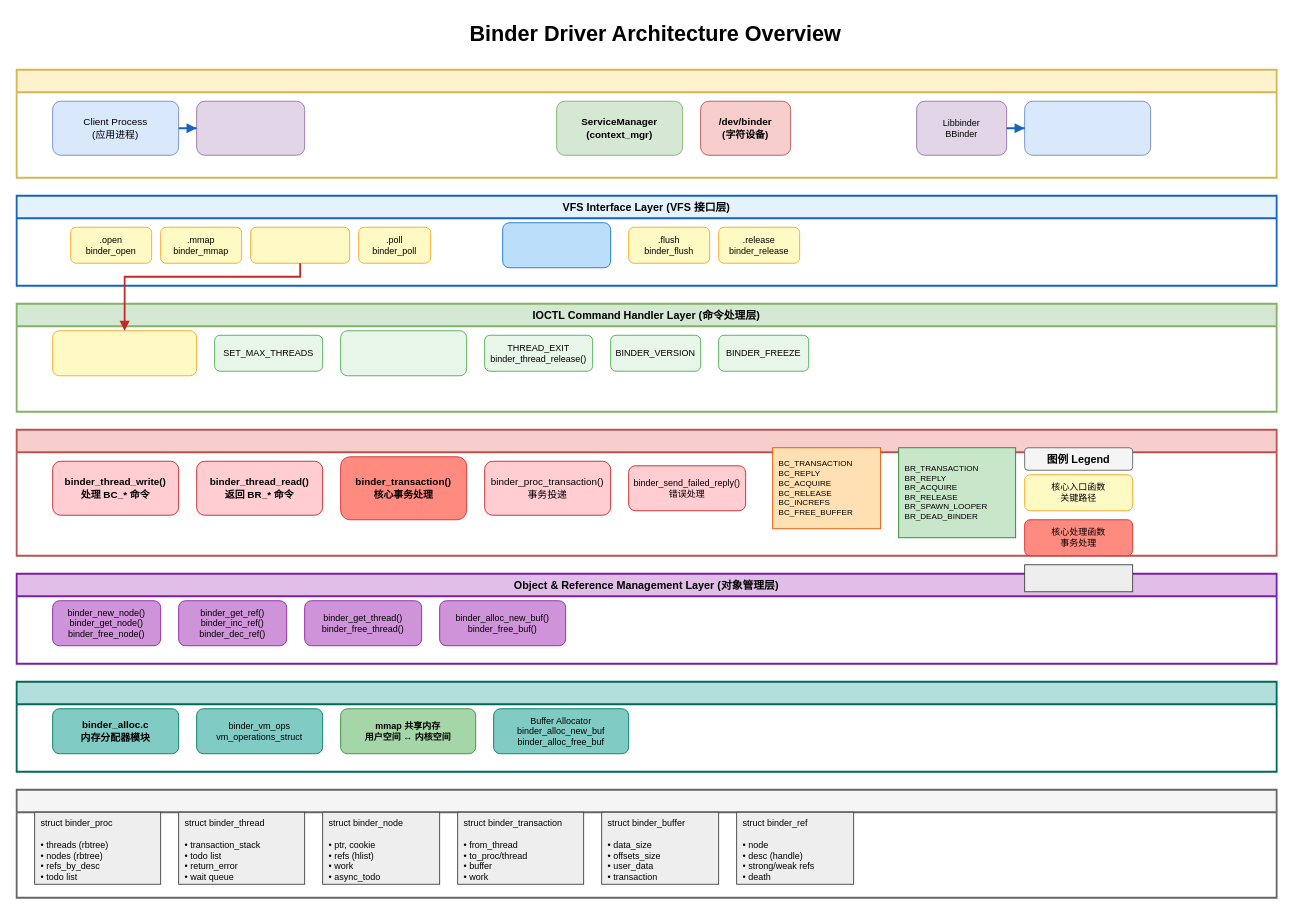
This 1292x914 diagram has some shape labels left out. Here are the shapes that lost their labels. From the top down, the box of each, then its label:
(196, 100, 305, 155): Libbinder IPCThreadState
(15, 68, 1277, 178): Userspace Layer (用户空间层)
(1024, 100, 1151, 155): Server Process (服务进程)
(250, 226, 350, 263): .unlocked_ioctl binder_ioctl
(502, 222, 611, 268): binder_fops file_operations
(52, 330, 197, 376): BINDER_WRITE_READ binder_ioctl_write_read()
(340, 330, 467, 376): SET_CONTEXT_MGR binder_ioctl_set_ctx_mgr()
(15, 428, 1277, 556): Core Transaction Layer (核心事务层)
(1024, 564, 1133, 592): 数据结构
(15, 680, 1277, 772): Memory & Buffer Management Layer (内存管理层)
(15, 788, 1277, 898): Core Data Structures (核心数据结构)
